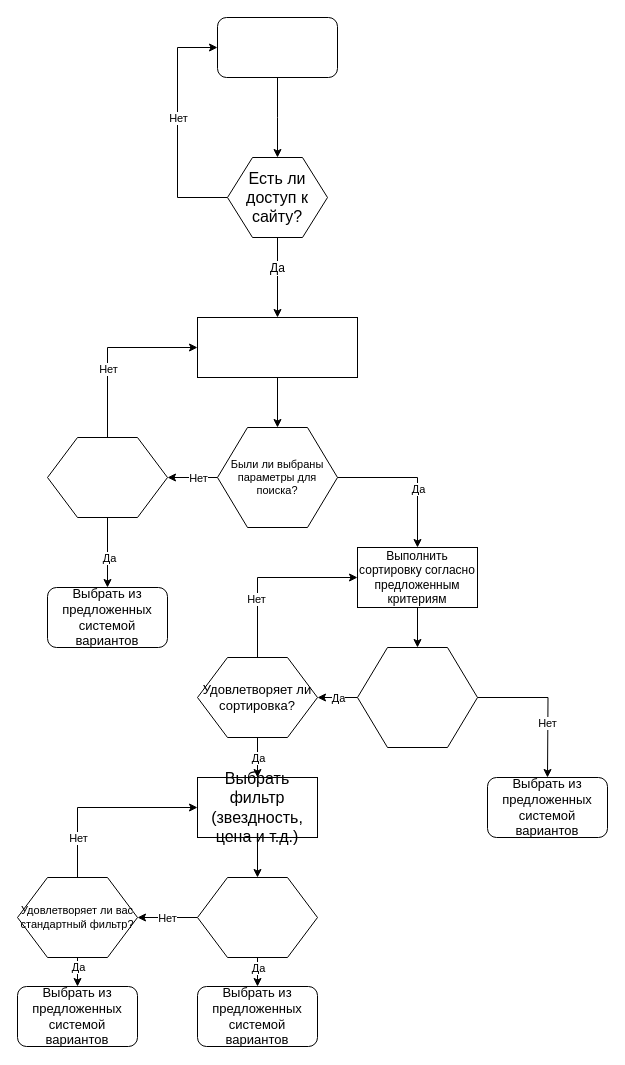
Some shapes in this 625 by 1065 pixel diagram are drawn without their labels. Here are the shapes that lost their labels. From the top down, the centre of each, then its label:
point (277, 47): Зайти на сайт booking.com
point (277, 347): Выбрать необходимые параметры (место, дата, кол-во)
point (107, 477): Удовлетворяют ли параметры?
point (417, 697): Выполнена ли сортировка?
point (257, 917): Выбран ли фильтр?
